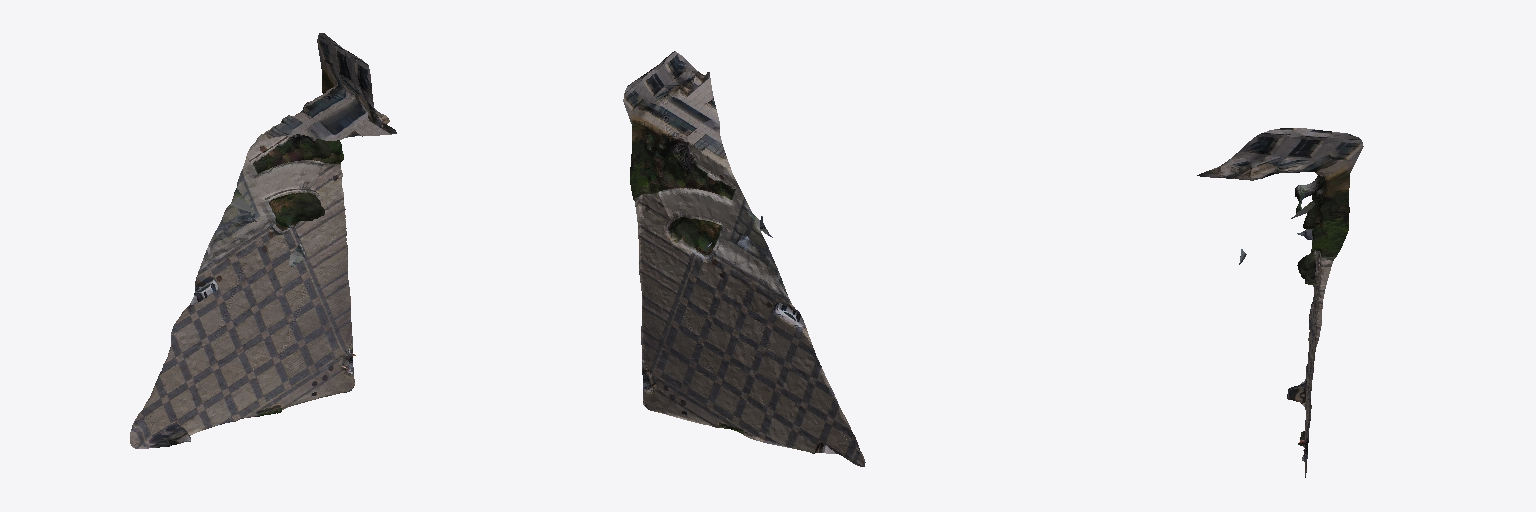
The picture shows the model from 3 angles: view 1: azimuth 30°, elevation 25°; view 2: azimuth 150°, elevation 25°; view 3: azimuth 270°, elevation 25°; orthographic projection.
Bounding box in the file's own units: 33.3 × 50.17 × 21.52.
Materials: 2 (1 with a texture image).